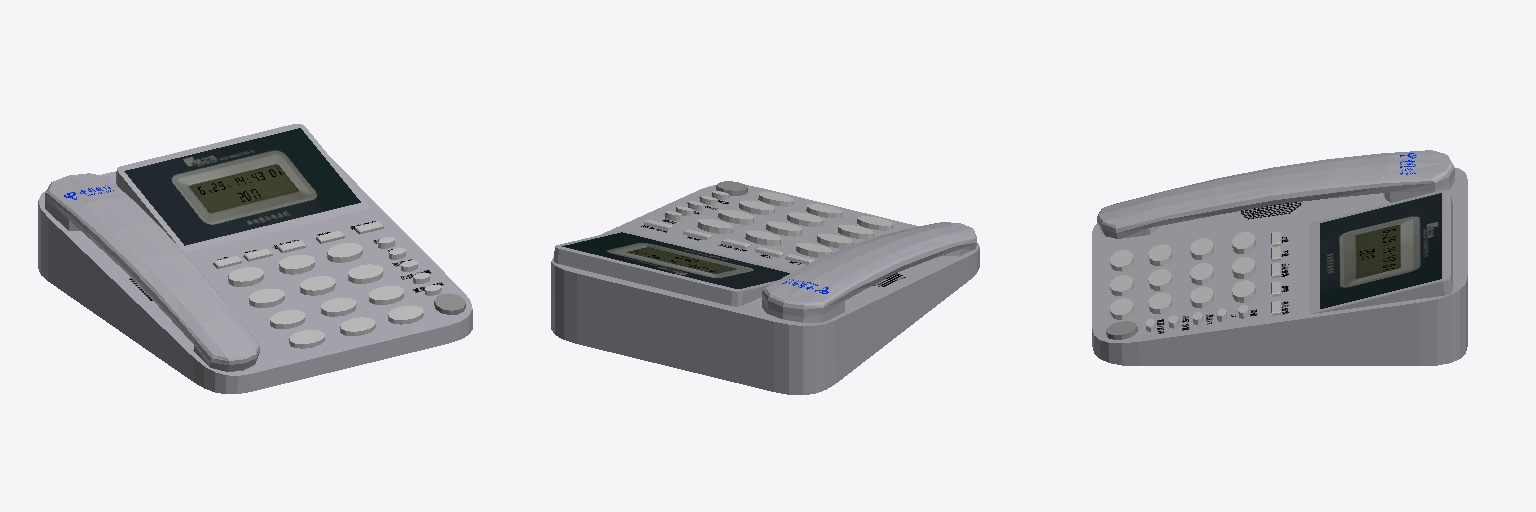
3 renders of one model, left to right at view 1: azimuth 30°, elevation 25°; view 2: azimuth 150°, elevation 25°; view 3: azimuth 270°, elevation 25°, orthographic.
Parts seen in each view (by area): view 1: telephone_01a, telephone_01b, telephone_01c, telephone_01d; view 2: telephone_01a, telephone_01b, telephone_01c; view 3: telephone_01a, telephone_01b, telephone_01c.
Boxes of the visible parts, x1=… form: telephone_01a: x1=38, y1=124, x2=472, y2=393; telephone_01b: x1=45, y1=173, x2=259, y2=371; telephone_01c: x1=213, y1=221, x2=441, y2=348; telephone_01d: x1=434, y1=293, x2=465, y2=314; telephone_01a: x1=551, y1=185, x2=979, y2=394; telephone_01b: x1=762, y1=222, x2=976, y2=322; telephone_01c: x1=644, y1=191, x2=892, y2=264; telephone_01a: x1=1092, y1=167, x2=1467, y2=365; telephone_01b: x1=1097, y1=150, x2=1454, y2=238; telephone_01c: x1=1110, y1=231, x2=1280, y2=331.
Size of the model in its own units: 20.15 by 6.02 by 23.77.
3 materials, 3 textured.